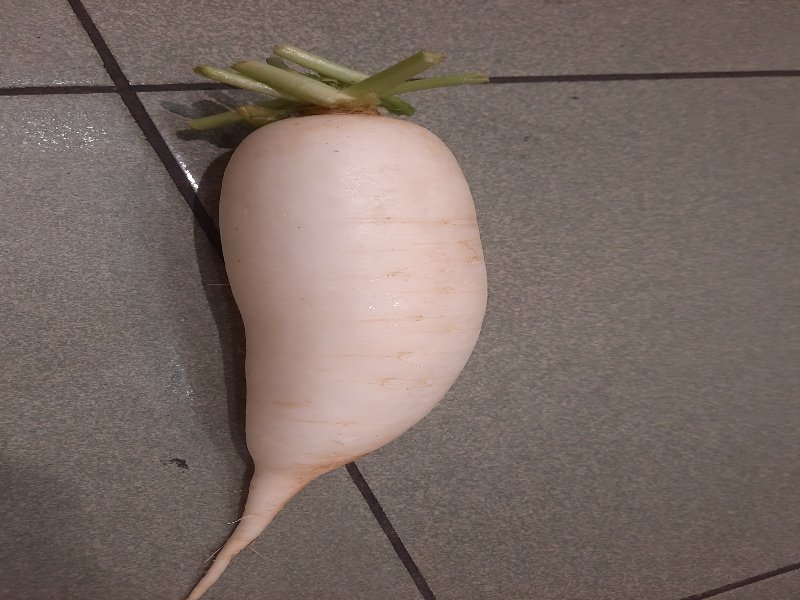vege: (162, 46, 489, 599)
